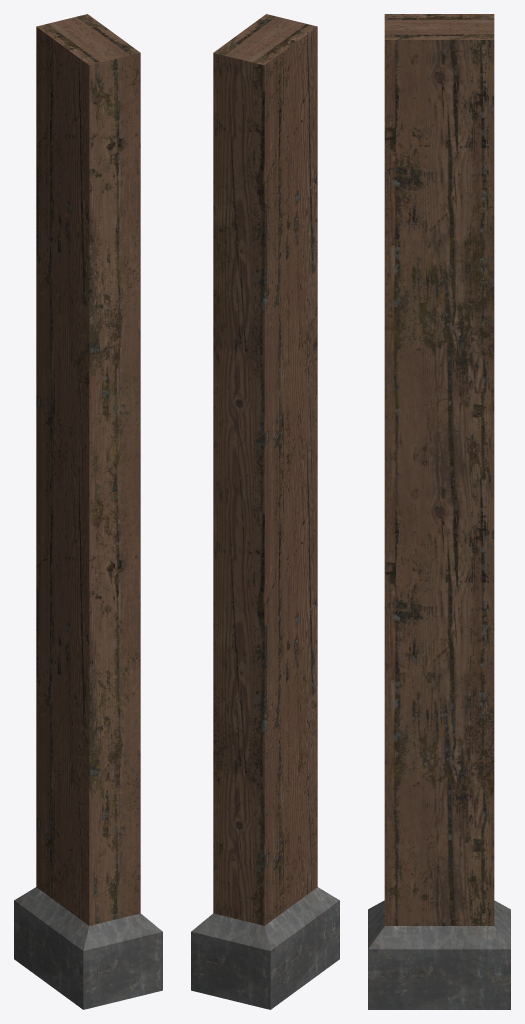
Rendered from Prop_Balcony_Colon.fbx.
The picture shows the model from 3 angles, left to right: view 1: azimuth 30°, elevation 25°; view 2: azimuth 150°, elevation 25°; view 3: azimuth 270°, elevation 25°; orthographic projection. The views are drawn at different scales.
Visible parts, largest first — view 1: Prop_Balcony_Colon; view 2: Prop_Balcony_Colon; view 3: Prop_Balcony_Colon.
Boxes of the visible parts, <box> form: Prop_Balcony_Colon: <box>14,14,162,1009</box>; Prop_Balcony_Colon: <box>191,14,339,1009</box>; Prop_Balcony_Colon: <box>368,14,510,1009</box>.
Size of the model in its own units: 13.84 by 156 by 20.9.
